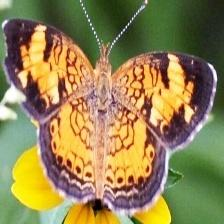butterfly: (3, 21, 216, 216)
